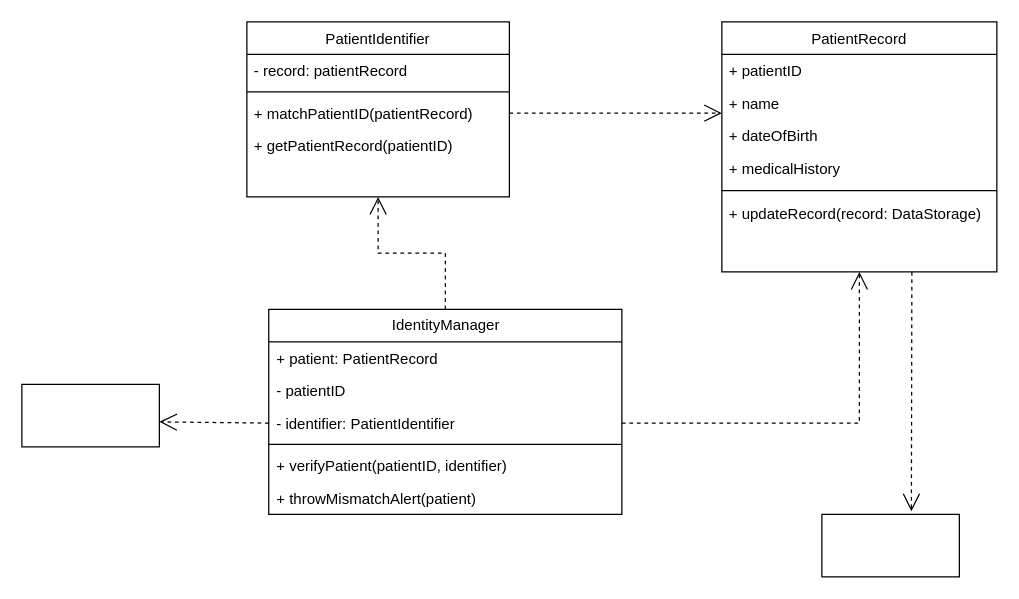
Some shapes in this 1019 by 599 pixel diagram are drawn without their labels. The centre of each missing label's shape, as x and y in pixels:
"Alert" goes at (x=90, y=415).
"Main Database" goes at (x=890, y=545).
